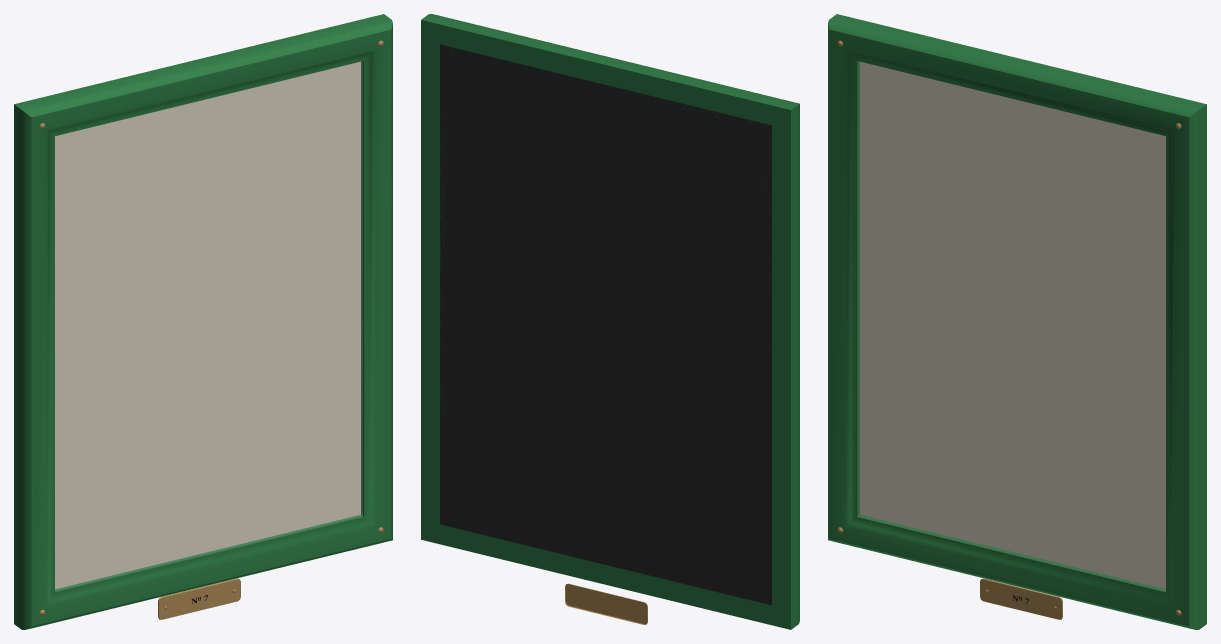
File: routing_chart.glb
The picture shows the model from 3 angles, left to right: view 1: azimuth 30°, elevation 25°; view 2: azimuth 150°, elevation 25°; view 3: azimuth 330°, elevation 25°; orthographic projection.
Parts seen in each view (by area): view 1: chart_glass, chart_image, chart_frame; view 2: chart_frame; view 3: chart_glass, chart_image, chart_frame.
Part boxes in pixels (bbox=[...]): chart_glass: bbox=[55, 61, 362, 590]; chart_image: bbox=[55, 61, 360, 589]; chart_frame: bbox=[14, 14, 392, 629]; chart_frame: bbox=[421, 14, 799, 629]; chart_glass: bbox=[858, 61, 1165, 590]; chart_image: bbox=[860, 61, 1165, 589]; chart_frame: bbox=[828, 14, 1206, 629].
Size of the model in its own units: 0.584 by 0.831 by 0.0367.
